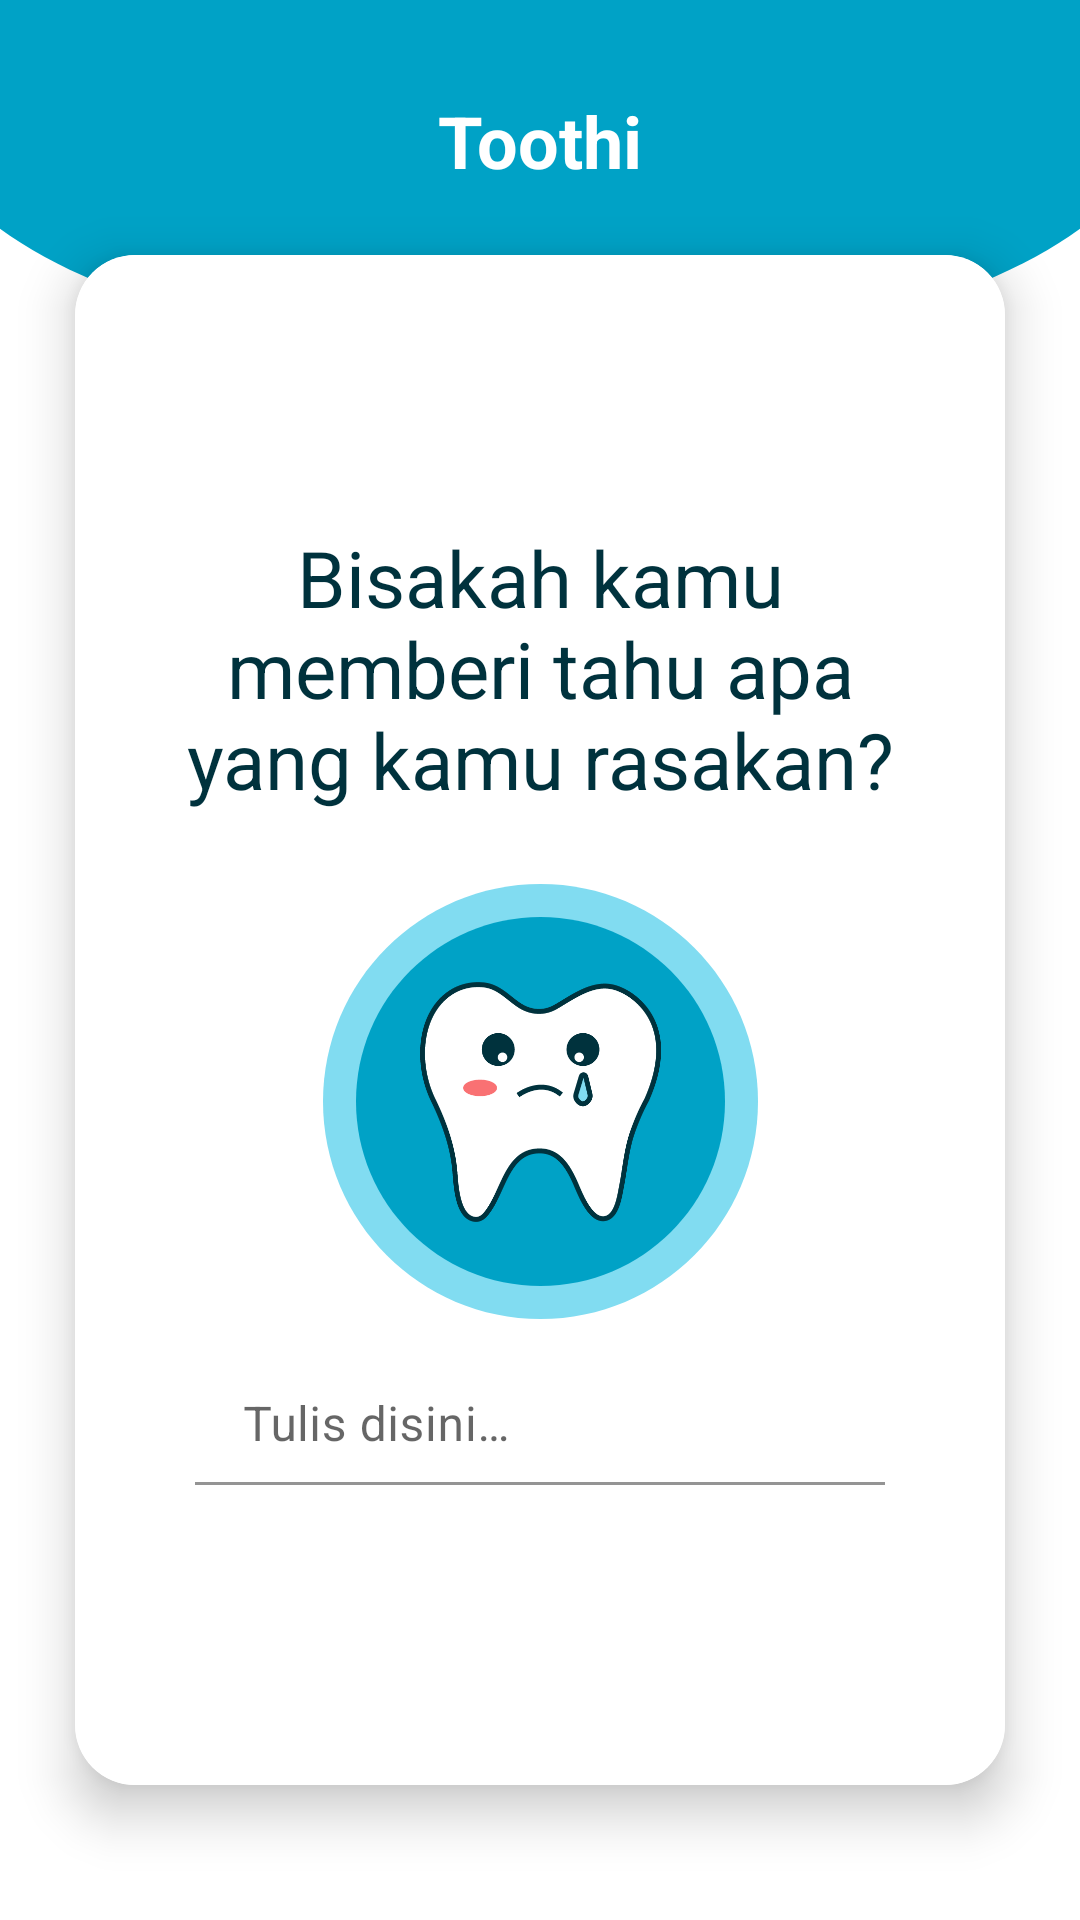

Named icons in this screenshot (1080w x 1920h) and their bounding boxes, (x1, y1, x2, y2):
Toothi: (420, 982, 661, 1222)
